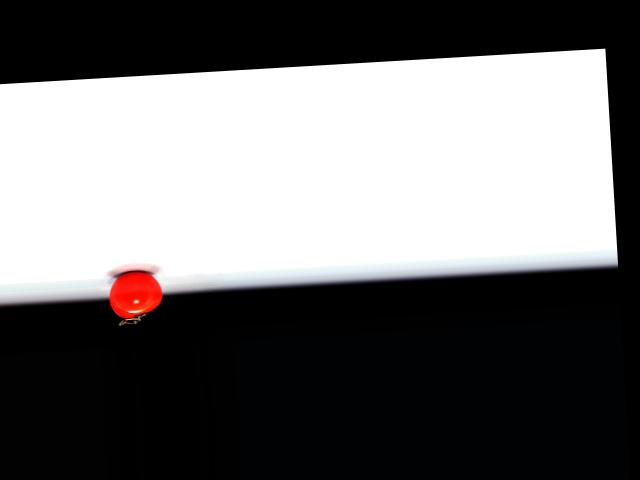tomato: (108, 269, 164, 319)
